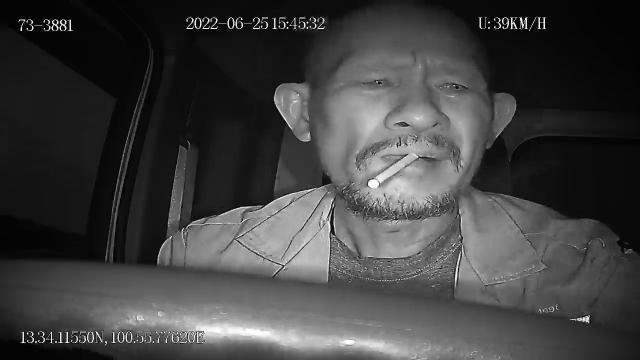SafeDriving: (426, 66, 482, 101), (348, 66, 403, 96)
Smoking: (368, 154, 418, 188)
